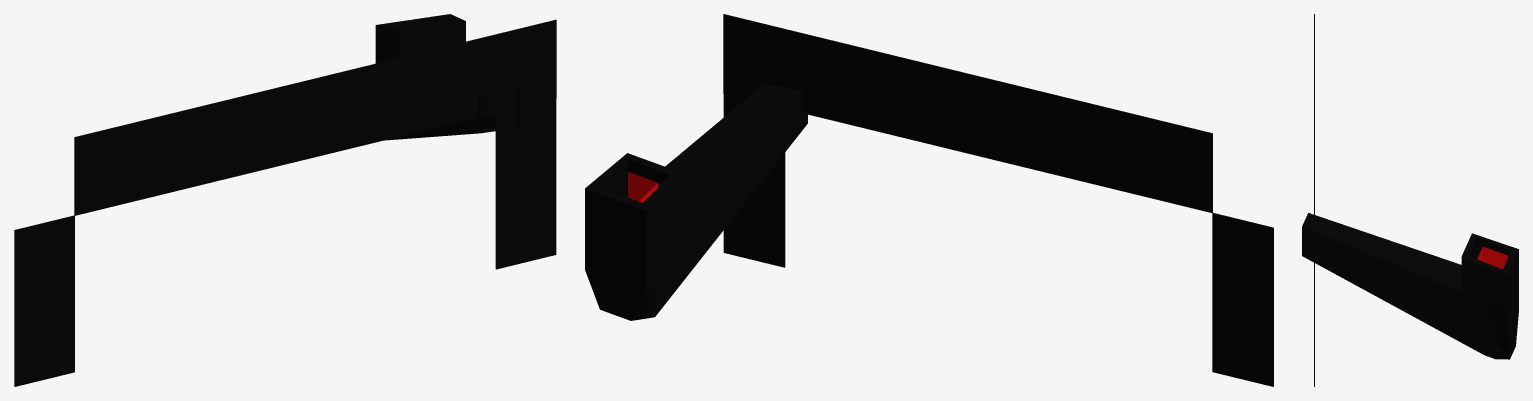
Rendered from SmokingPipe.fbx.
3 renders of one model, left to right at view 1: azimuth 30°, elevation 25°; view 2: azimuth 150°, elevation 25°; view 3: azimuth 270°, elevation 25°, orthographic. The views are drawn at different scales.
Parts seen in each view (by area): view 1: 1.BODY.007; view 2: 1.BODY.007; view 3: 1.BODY.007.
Part boxes in pixels (x1,y1,x2,y2): 1.BODY.007: (14,14,556,386); 1.BODY.007: (585,14,1273,386); 1.BODY.007: (1302,14,1518,386).
Bounding box in the file's own units: 81.11 × 32.66 × 34.4.
